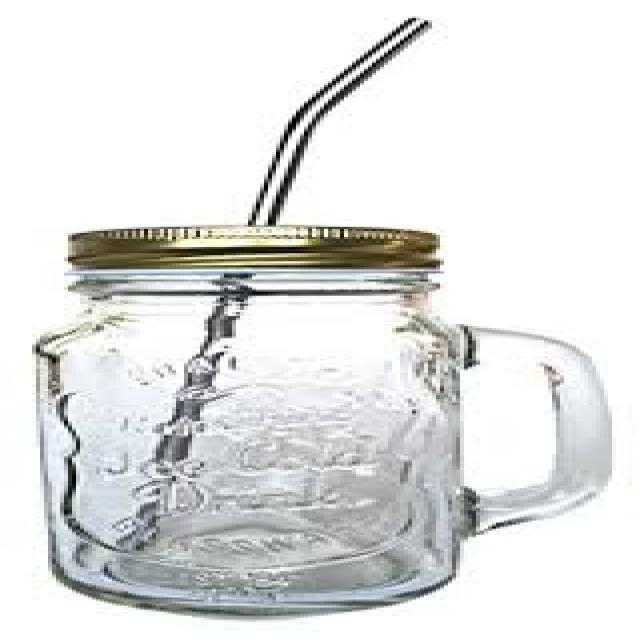glass: (32, 267, 608, 618)
metal: (60, 225, 428, 271)
